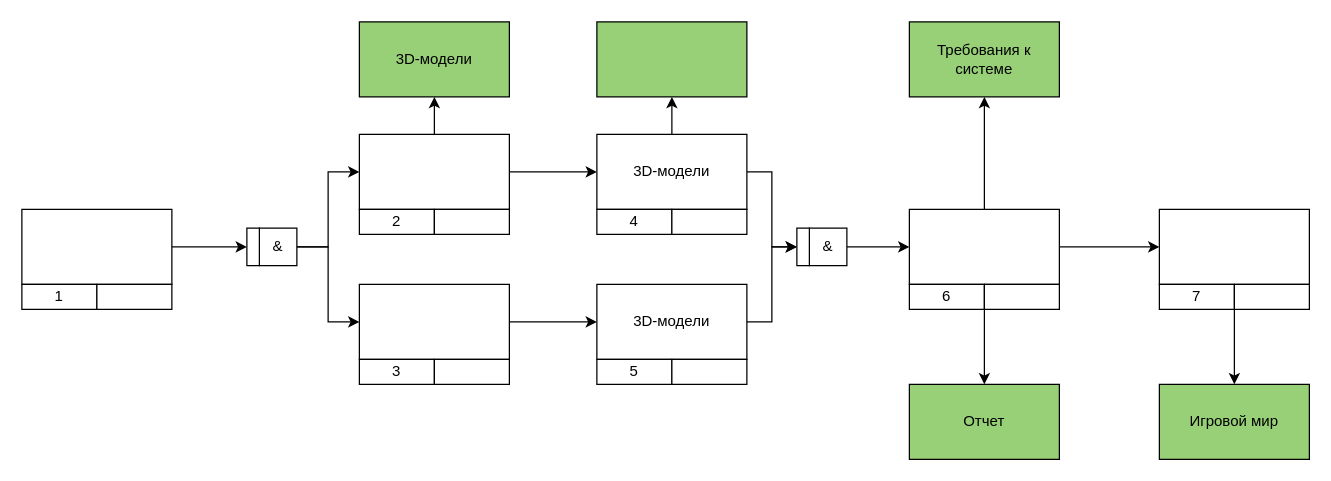
Image size: 1331x481. Some labels were removed from this diagram. Here are the shapes that lost their labels. From the top down, the centre of each, then its label:
At point 671,59: "ONNX-модели".
At point 433,171: "Генерировать модель и портрет".
At point 96,246: "Определить характеристики".
At point 983,246: "Тестировать прототип".
At point 1233,246: "Интеграция компонентов".
At point 433,321: "Генерировать тексты и квесты".
